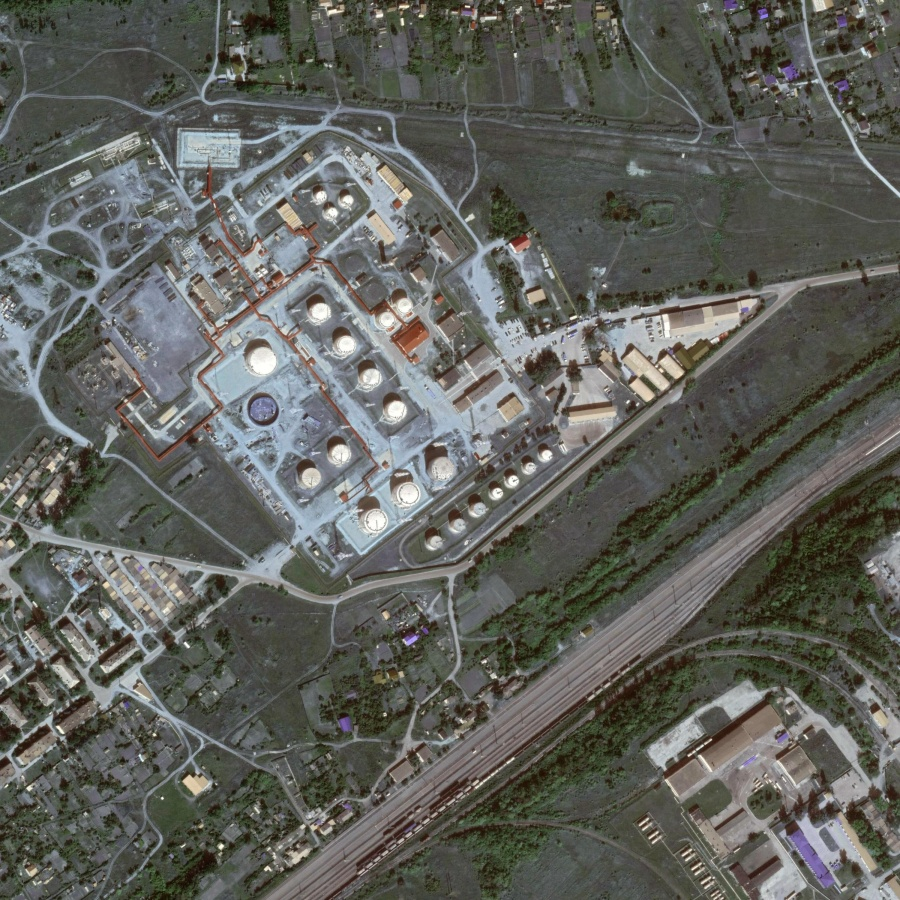PowerPlant: (246, 261, 559, 552)
